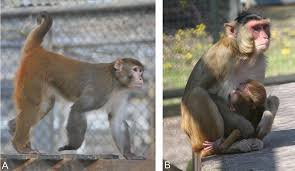monkey: (12, 9, 151, 159), (166, 6, 286, 160)
